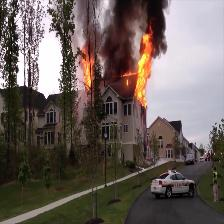fire: (138, 34, 153, 107), (81, 55, 95, 86)
smoke: (104, 2, 134, 73), (142, 2, 165, 34), (85, 1, 98, 52)
